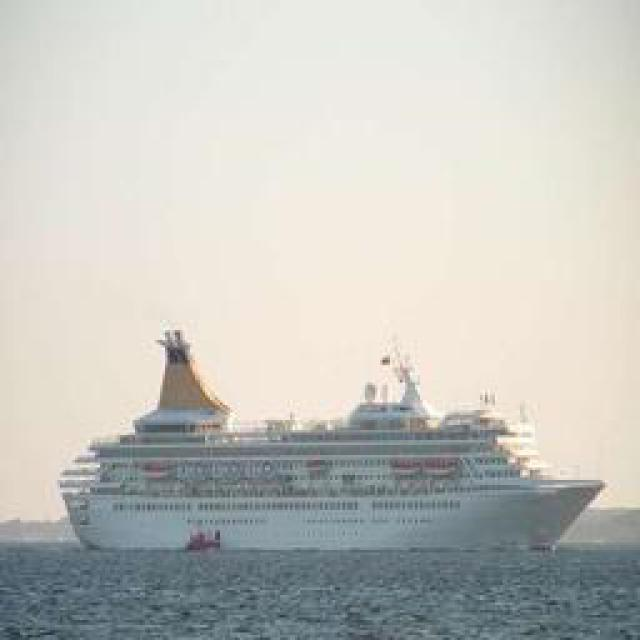Ship: (66, 342, 609, 560)
